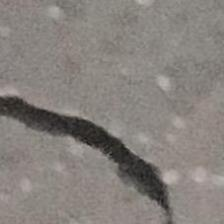Crack: (0, 39, 207, 223)
